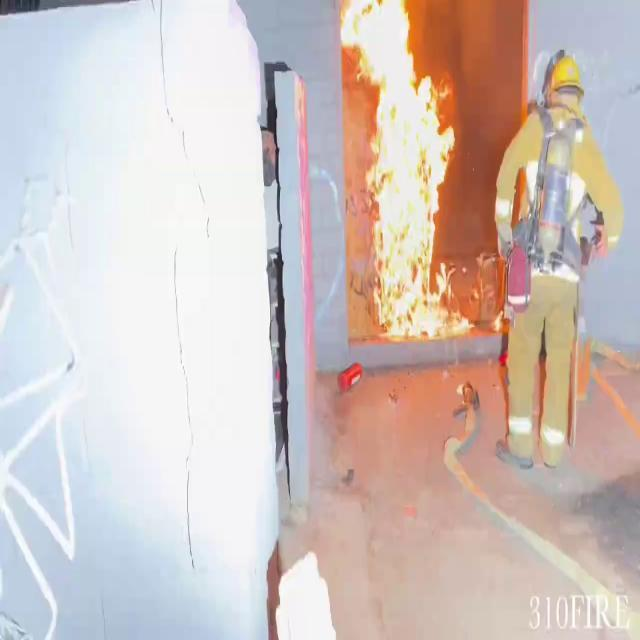Fire: (339, 1, 461, 332)
